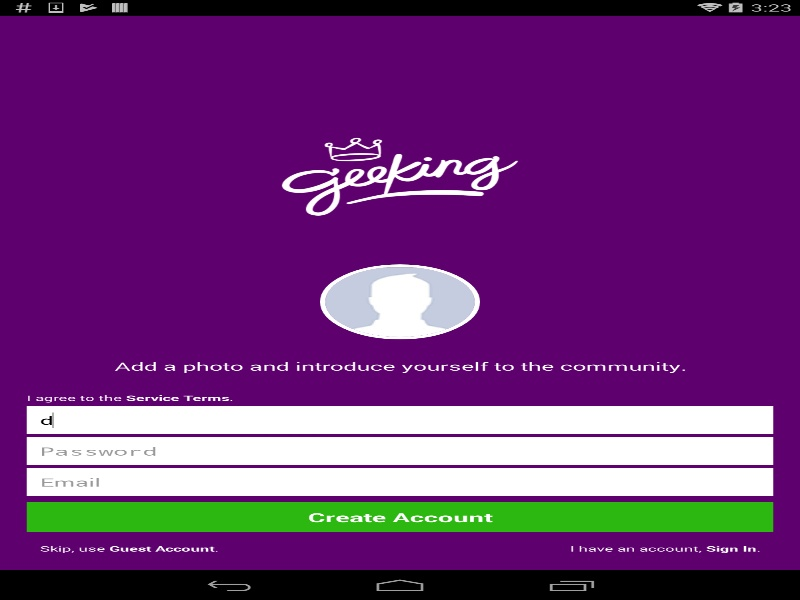Button: (26, 502, 773, 532)
Input: (26, 406, 773, 434), (26, 437, 773, 465), (26, 468, 773, 495)
